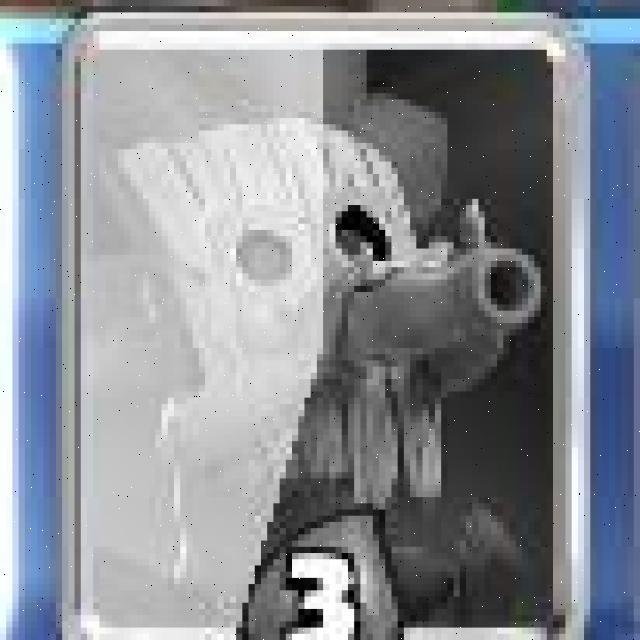Dart_Goblin: (50, 8, 595, 640)
